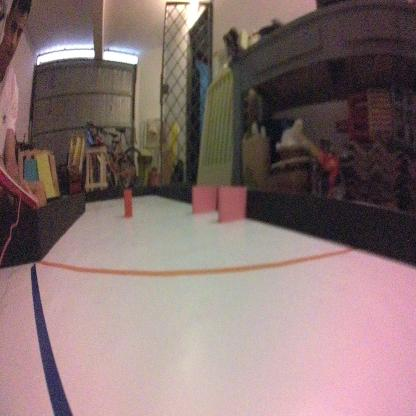magenta: (215, 185, 247, 226), (190, 183, 216, 213)
red: (122, 184, 132, 217)
